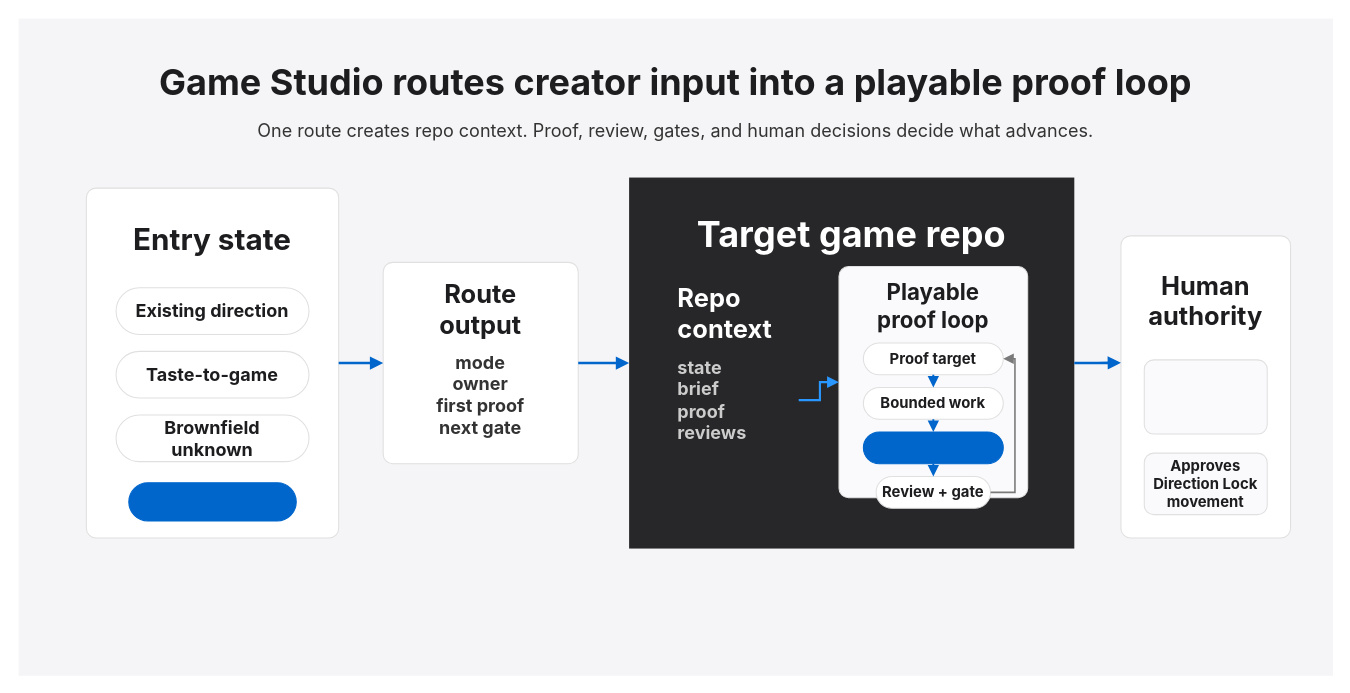
This 1350x693 diagram has some shape labels left out. The centre of each missing label's shape, as x and y in pixels:
one first proof: point (212, 501)
Owns taste concept promises: point (1205, 396)
Playable proof: point (932, 447)
